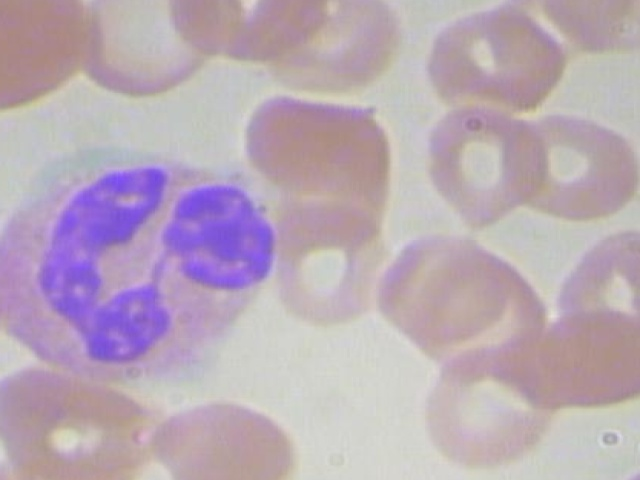RBC: (421, 0, 584, 118), (270, 190, 400, 331), (419, 344, 570, 465), (417, 106, 551, 228), (266, 0, 429, 100), (510, 106, 640, 228), (146, 384, 297, 480), (158, 0, 335, 62), (0, 241, 7, 380)
WBC: (0, 144, 306, 381)
